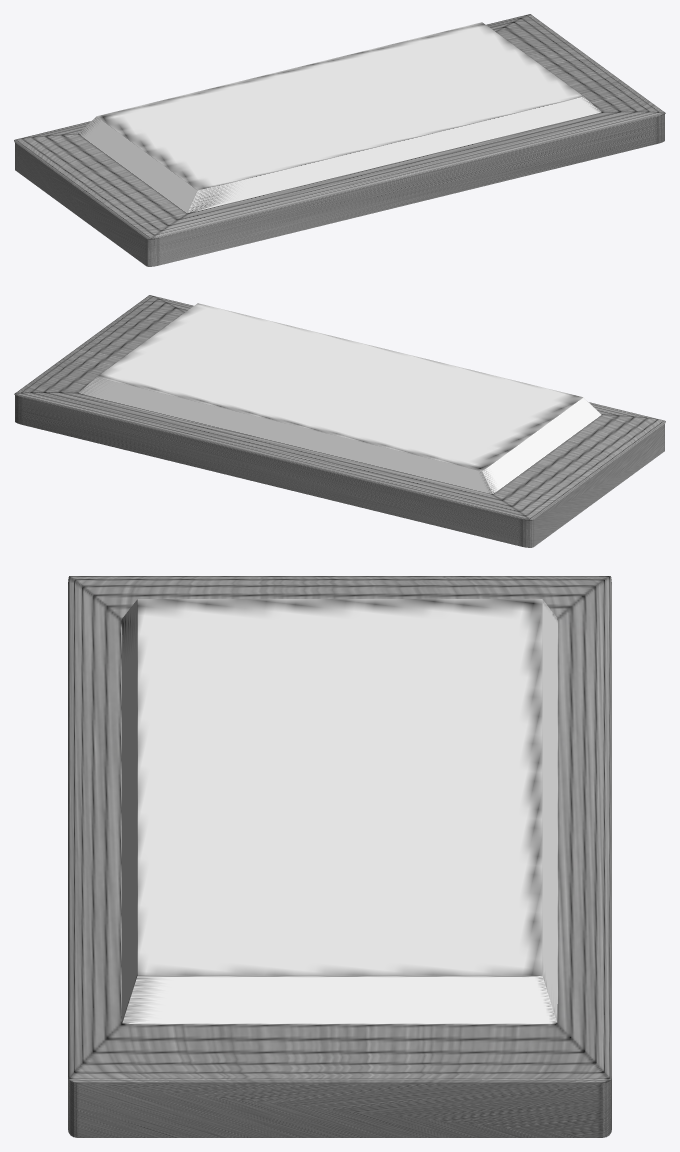
File: note.obj
3 views of the same model, one above another, from view 1: azimuth 30°, elevation 25°; view 2: azimuth 150°, elevation 25°; view 3: azimuth 270°, elevation 25° (orthographic). The views are drawn at different scales.
Visible parts, largest first — view 1: Cube_Cube.001; view 2: Cube_Cube.001; view 3: Cube_Cube.001.
Boxes of the visible parts, x1,y1,x2,y2 form: Cube_Cube.001: (14,14,665,266); Cube_Cube.001: (14,295,665,547); Cube_Cube.001: (68,576,611,1137).
Size of the model in its own units: 0.8546 by 0.0768 by 0.3884.
1 material, 1 textured.
